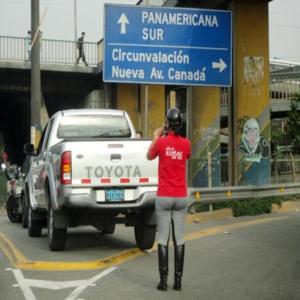Vehicle-registration-plate: (106, 190, 125, 202)
